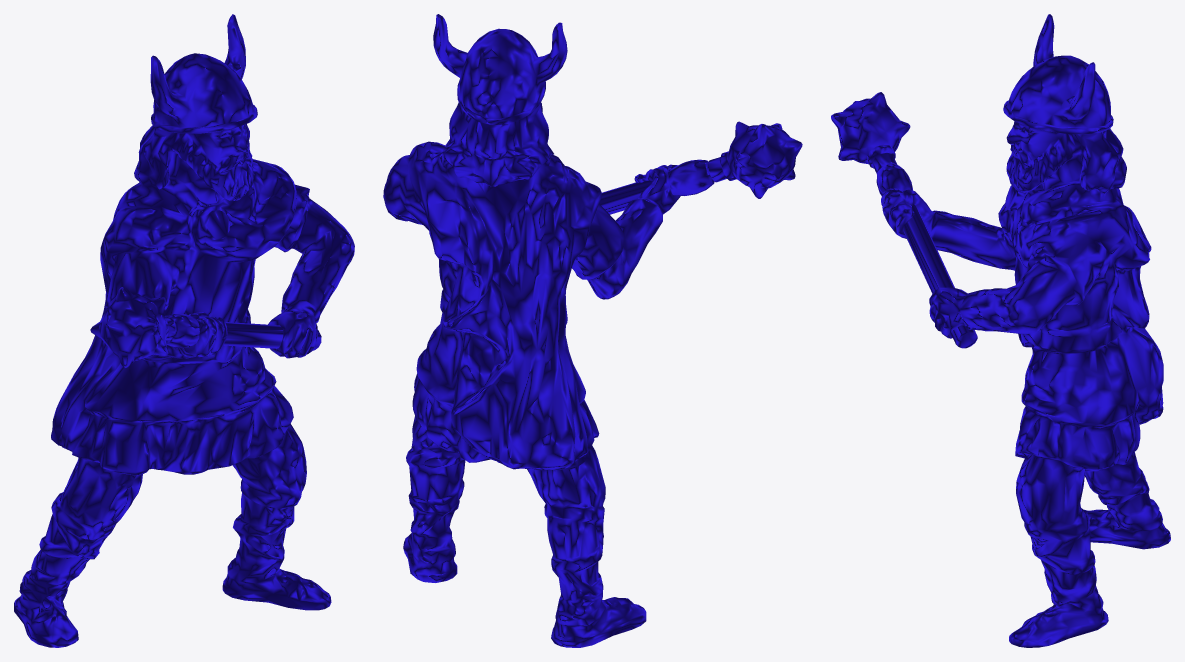
File: viking.obj
The picture shows the model from 3 angles, left to right: view 1: azimuth 30°, elevation 25°; view 2: azimuth 150°, elevation 25°; view 3: azimuth 270°, elevation 25°; orthographic projection. The views are drawn at different scales.
Parts seen in each view (by area): view 1: viking; view 2: viking; view 3: viking.
Part boxes in pixels (x1=…): viking: x1=14, y1=14, x2=354, y2=647; viking: x1=383, y1=14, x2=802, y2=647; viking: x1=831, y1=14, x2=1170, y2=647.
Bounding box in the file's own units: 3.1 × 5.14 × 2.84.
